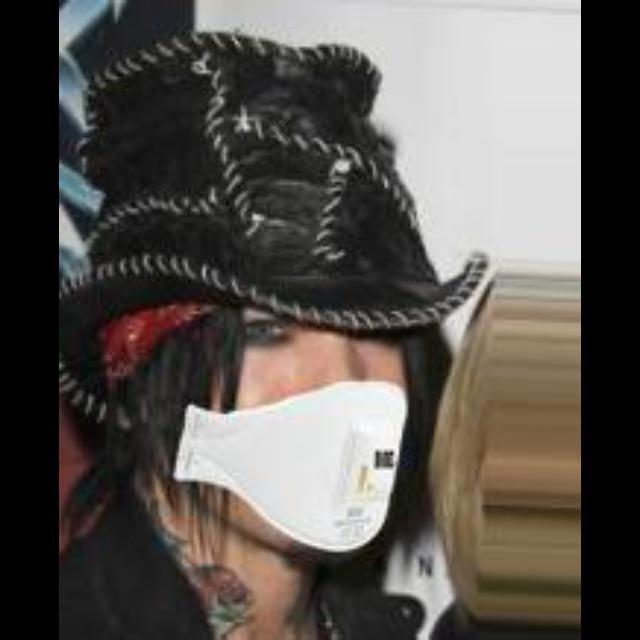suspicion: (90, 272, 472, 604)
